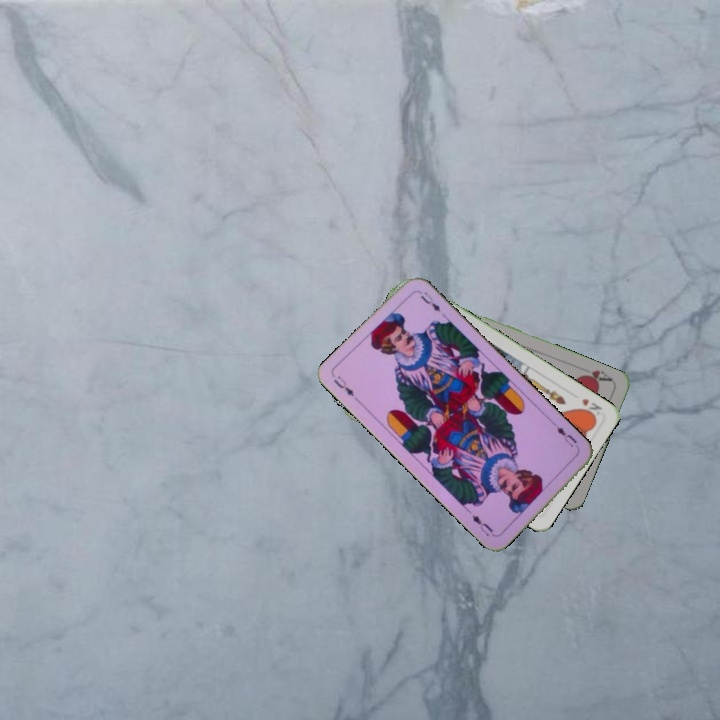EU: (550, 420, 582, 452), (329, 371, 357, 399)
HA: (576, 365, 615, 386)
HK: (576, 394, 605, 420)
